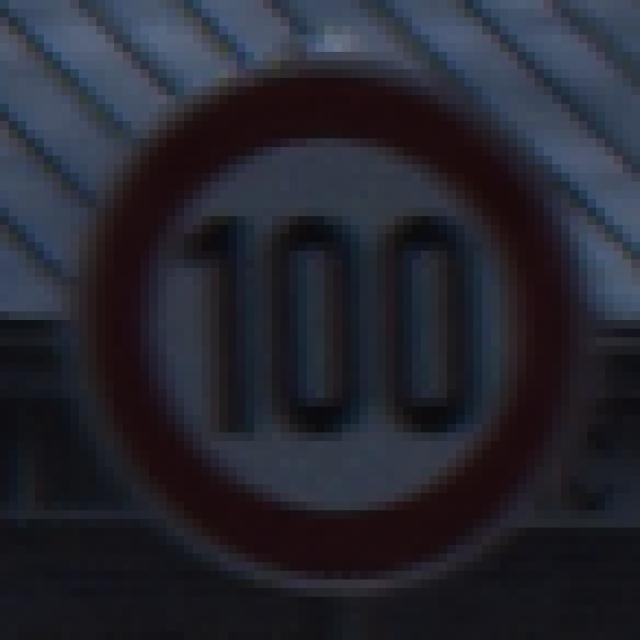speed limit 100: (60, 49, 595, 588)
